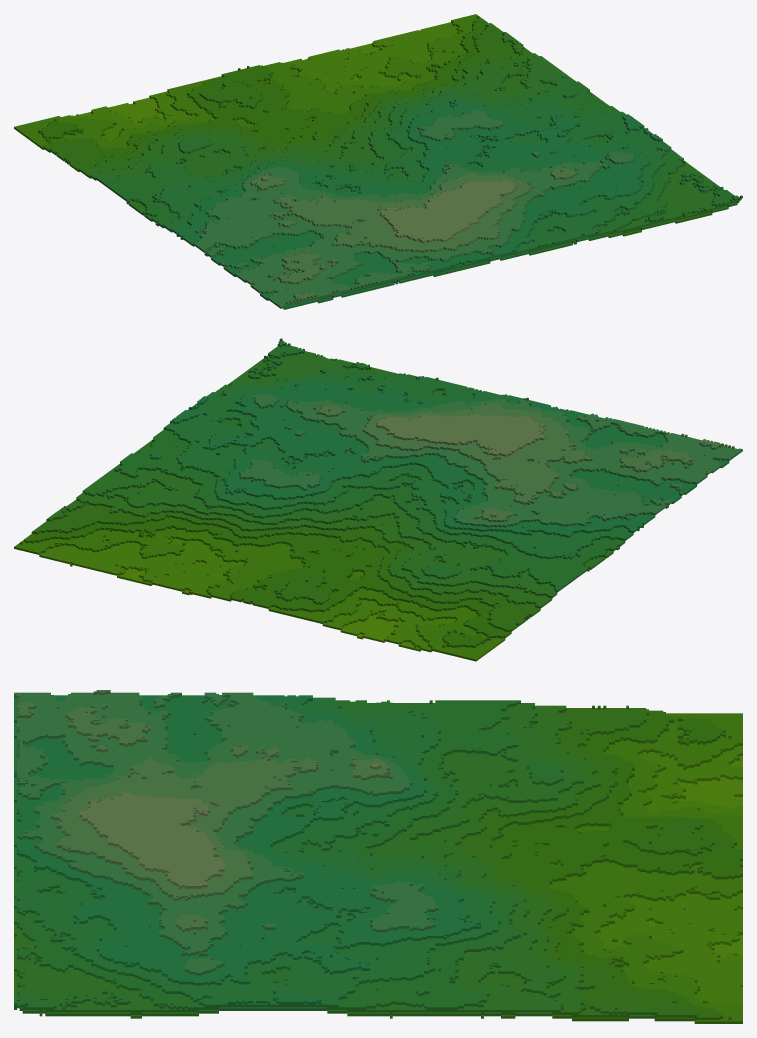
Rendered from Ground.fbx.
3 views of the same model, one above another, from view 1: azimuth 30°, elevation 25°; view 2: azimuth 150°, elevation 25°; view 3: azimuth 270°, elevation 25° (orthographic). The views are drawn at different scales.
Visible parts, largest first — view 1: Terrain; view 2: Terrain; view 3: Terrain.
Boxes of the visible parts, x1,y1,x2,y2 form: Terrain: (14,14,742,309); Terrain: (14,338,742,661); Terrain: (14,690,742,1023).
Bounding box in the file's own units: 256 × 14 × 256.
Materials: 1 (1 with a texture image).
